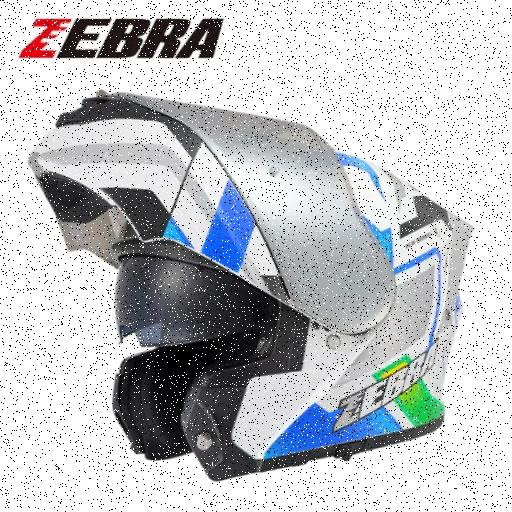Helmet: (58, 103, 448, 476)
